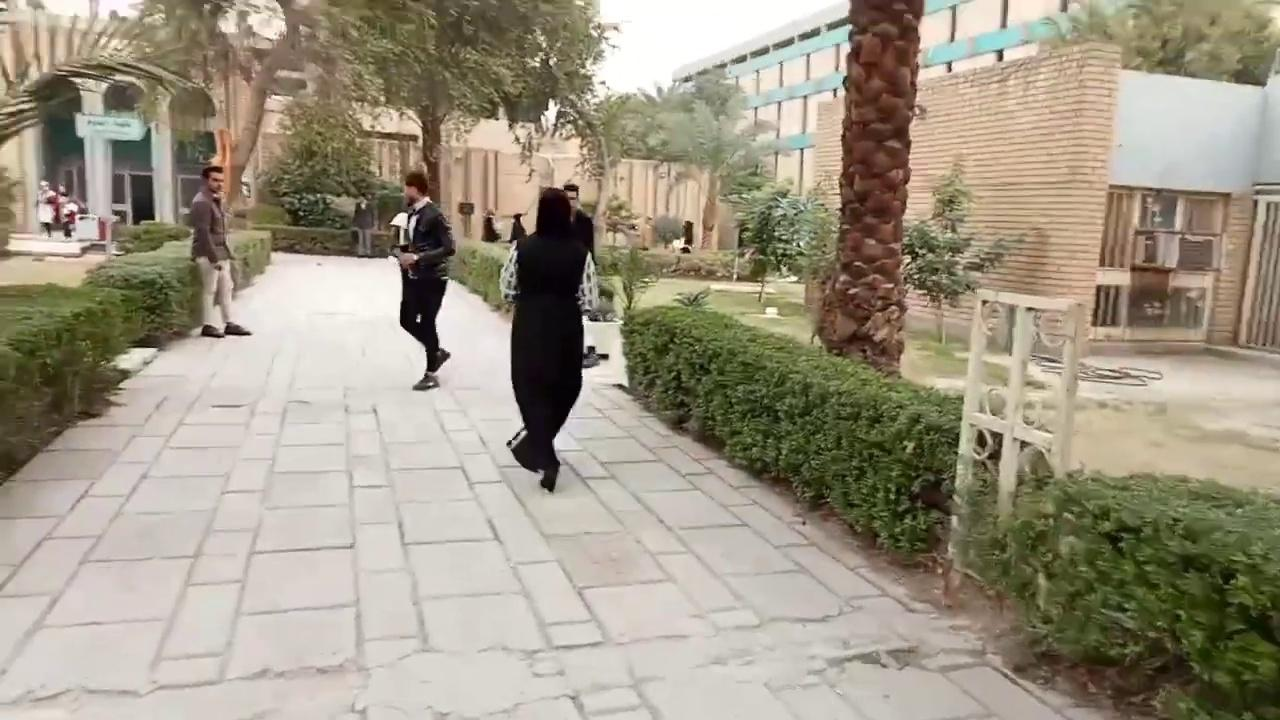person: (505, 186, 597, 492), (387, 170, 456, 390), (189, 164, 252, 338), (562, 182, 600, 368), (351, 192, 376, 257), (34, 179, 57, 239), (680, 219, 694, 253)
tree: (15, 0, 618, 225), (943, 465, 1278, 717), (316, 0, 615, 214), (0, 0, 217, 246), (131, 0, 348, 218), (812, 0, 926, 374), (605, 62, 790, 251), (899, 157, 1026, 344), (1034, 0, 1279, 85), (254, 90, 389, 227), (669, 62, 761, 250), (554, 90, 649, 262), (731, 181, 817, 302), (596, 242, 661, 319), (601, 191, 640, 246), (645, 211, 684, 249)
